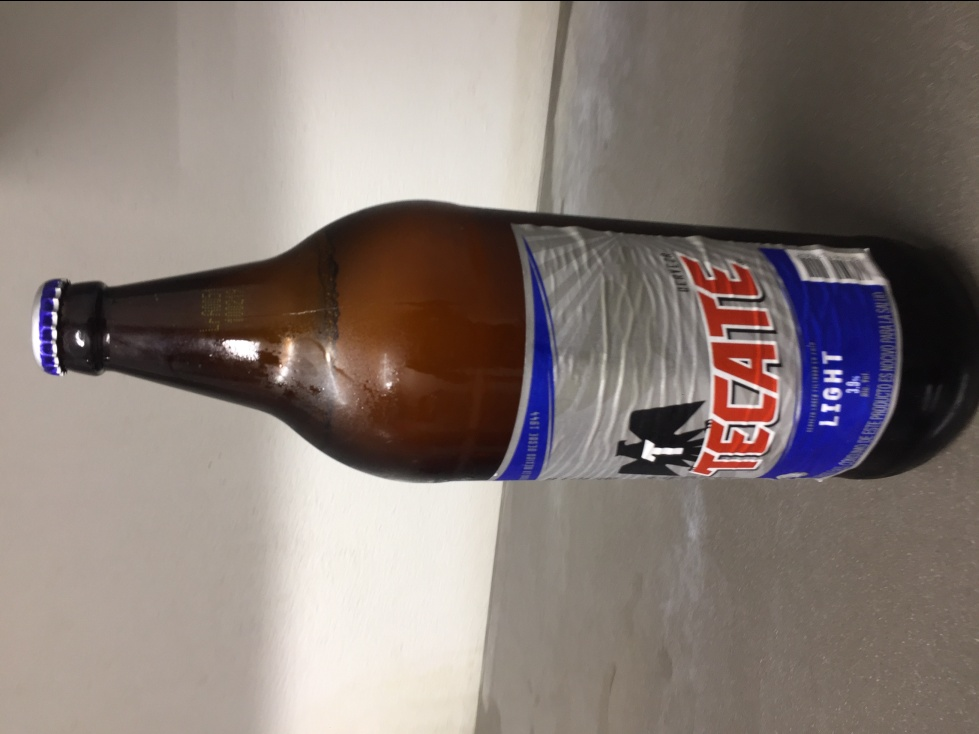tecateC: (35, 198, 973, 496)
